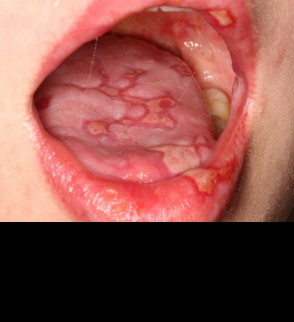SJS-TEN: (62, 50, 197, 146), (137, 112, 247, 205), (168, 59, 194, 81)
